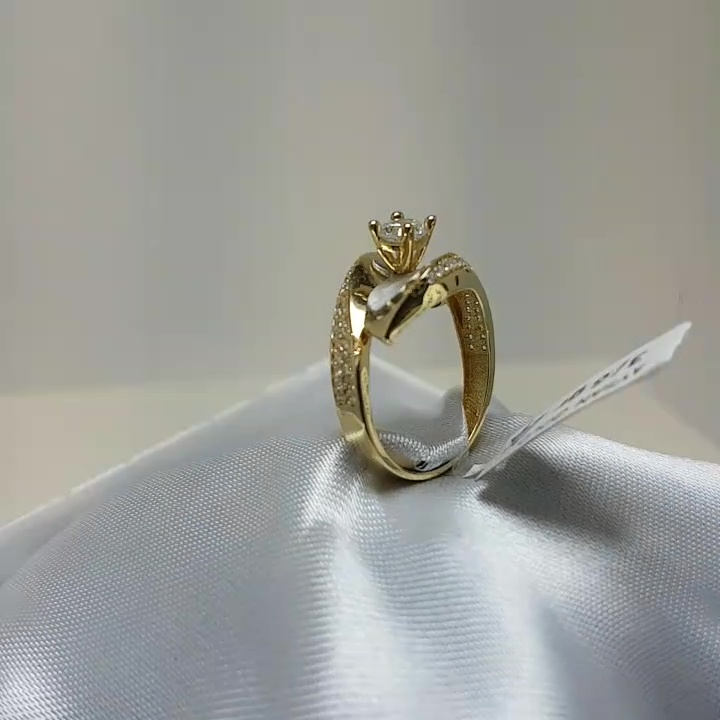Ring 6: (302, 190, 531, 485)
